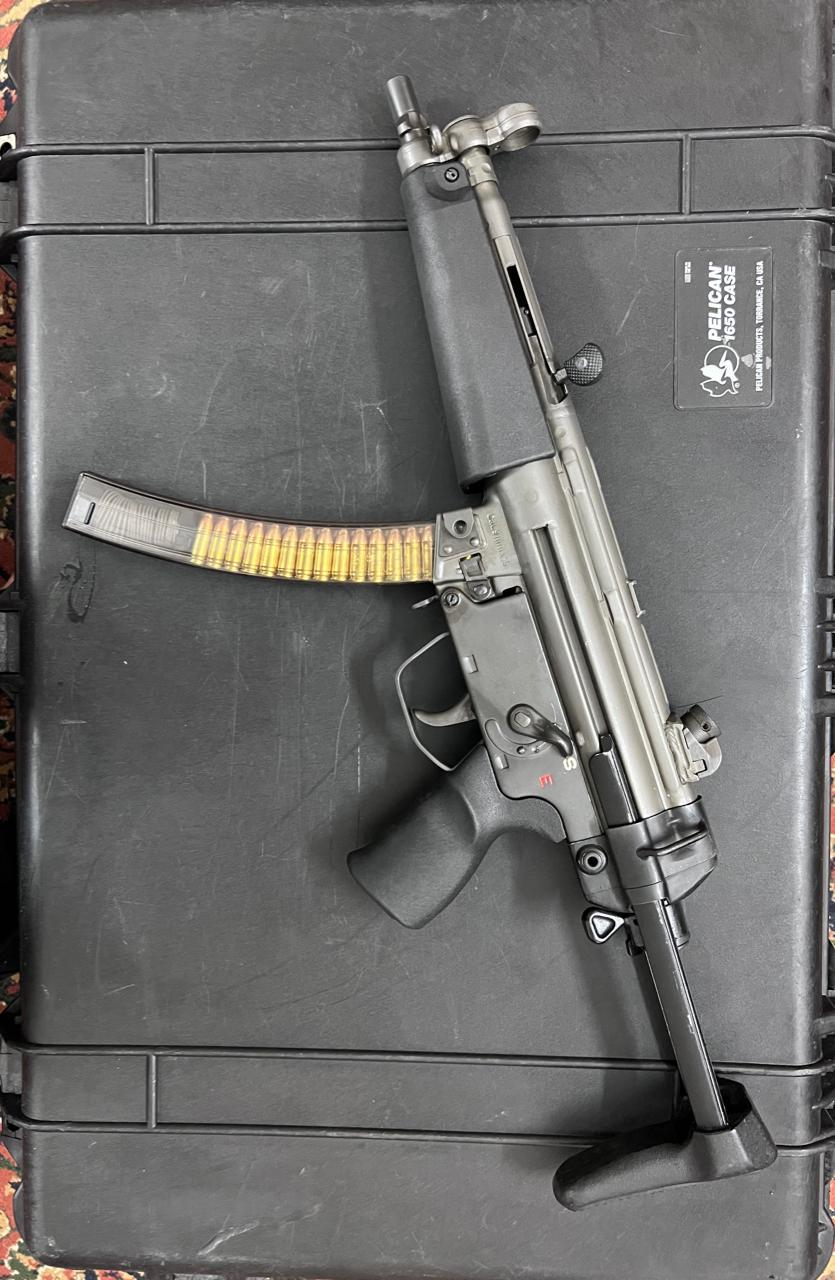weapon: (66, 76, 775, 1210)
